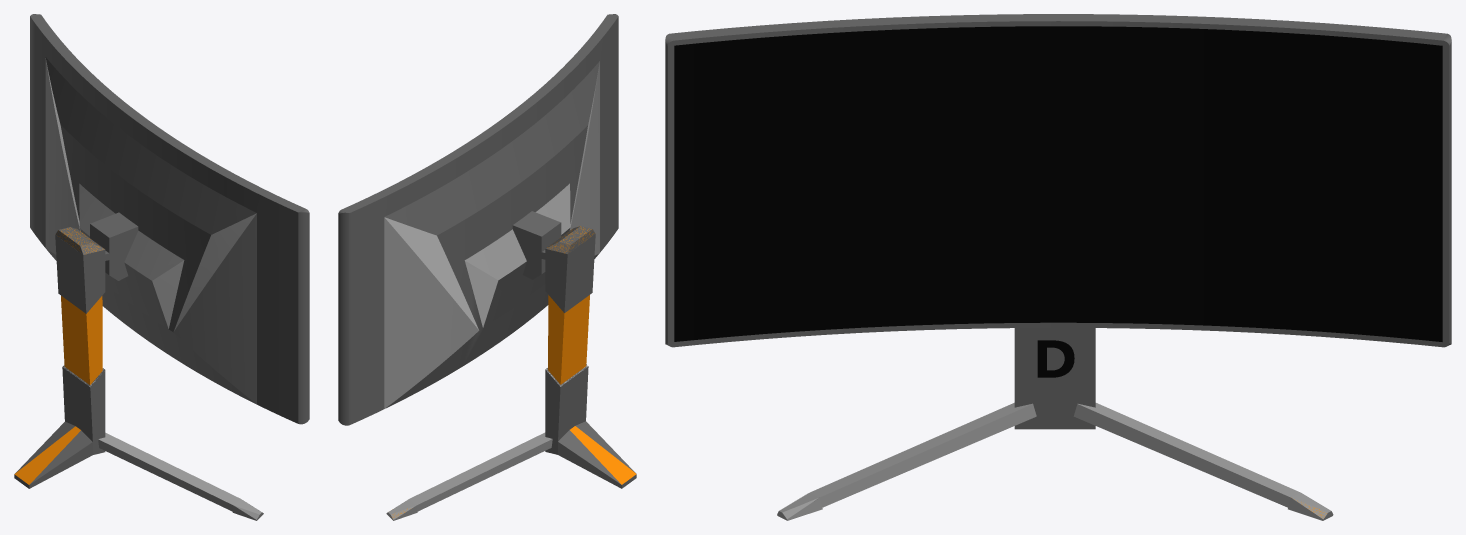
Rendered from monitor.dae.
The picture shows the model from 3 angles, left to right: view 1: azimuth 30°, elevation 25°; view 2: azimuth 150°, elevation 25°; view 3: azimuth 270°, elevation 25°; orthographic projection. The views are drawn at different scales.
Parts seen in each view (by area): view 1: group_2, group_2.005, group_7.001, group_2.006, group_6, group_9, group_5, group_2.002, group_3, group_2.004, group_2.008, group_7.005 (+2 smaller); view 2: group_2, group_2.006, group_7.001, group_6, group_9, group_5, group_2.005, group_2.002, group_2.003, group_3, group_2.007, group_7.005 (+1 smaller); view 3: group_2.001, group_2, group_9, group_7.001, instance_0.
Boxes of the visible parts, x1,y1,x2,y2 form: group_2: (30, 14, 309, 424); group_2.005: (173, 213, 256, 404); group_7.001: (14, 365, 105, 488); group_2.006: (45, 58, 80, 254); group_6: (61, 296, 102, 384); group_9: (98, 432, 263, 520); group_5: (55, 235, 105, 313); group_2.002: (79, 183, 183, 280); group_3: (90, 212, 138, 280); group_2.004: (173, 213, 256, 331); group_2.008: (152, 260, 184, 328); group_7.005: (14, 426, 80, 484); group_2: (338, 14, 618, 425); group_2.006: (384, 217, 478, 408); group_7.001: (545, 364, 636, 488); group_6: (548, 295, 589, 384); group_9: (386, 432, 552, 520); group_5: (545, 234, 595, 312); group_2.005: (570, 61, 599, 255); group_2.002: (465, 183, 570, 280); group_2.003: (385, 217, 478, 329); group_3: (512, 211, 561, 279); group_2.007: (465, 261, 498, 327); group_7.005: (570, 426, 636, 484); group_2.001: (674, 26, 1442, 341); group_2: (665, 14, 1451, 347); group_9: (777, 402, 1333, 520); group_7.001: (1014, 327, 1095, 429); instance_0: (1037, 340, 1074, 377).
Bounding box in the file's own units: 3.05 × 9.28 × 6.33.
